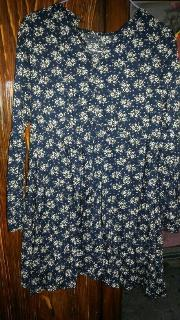long sleeve dress: (6, 1, 180, 299)
